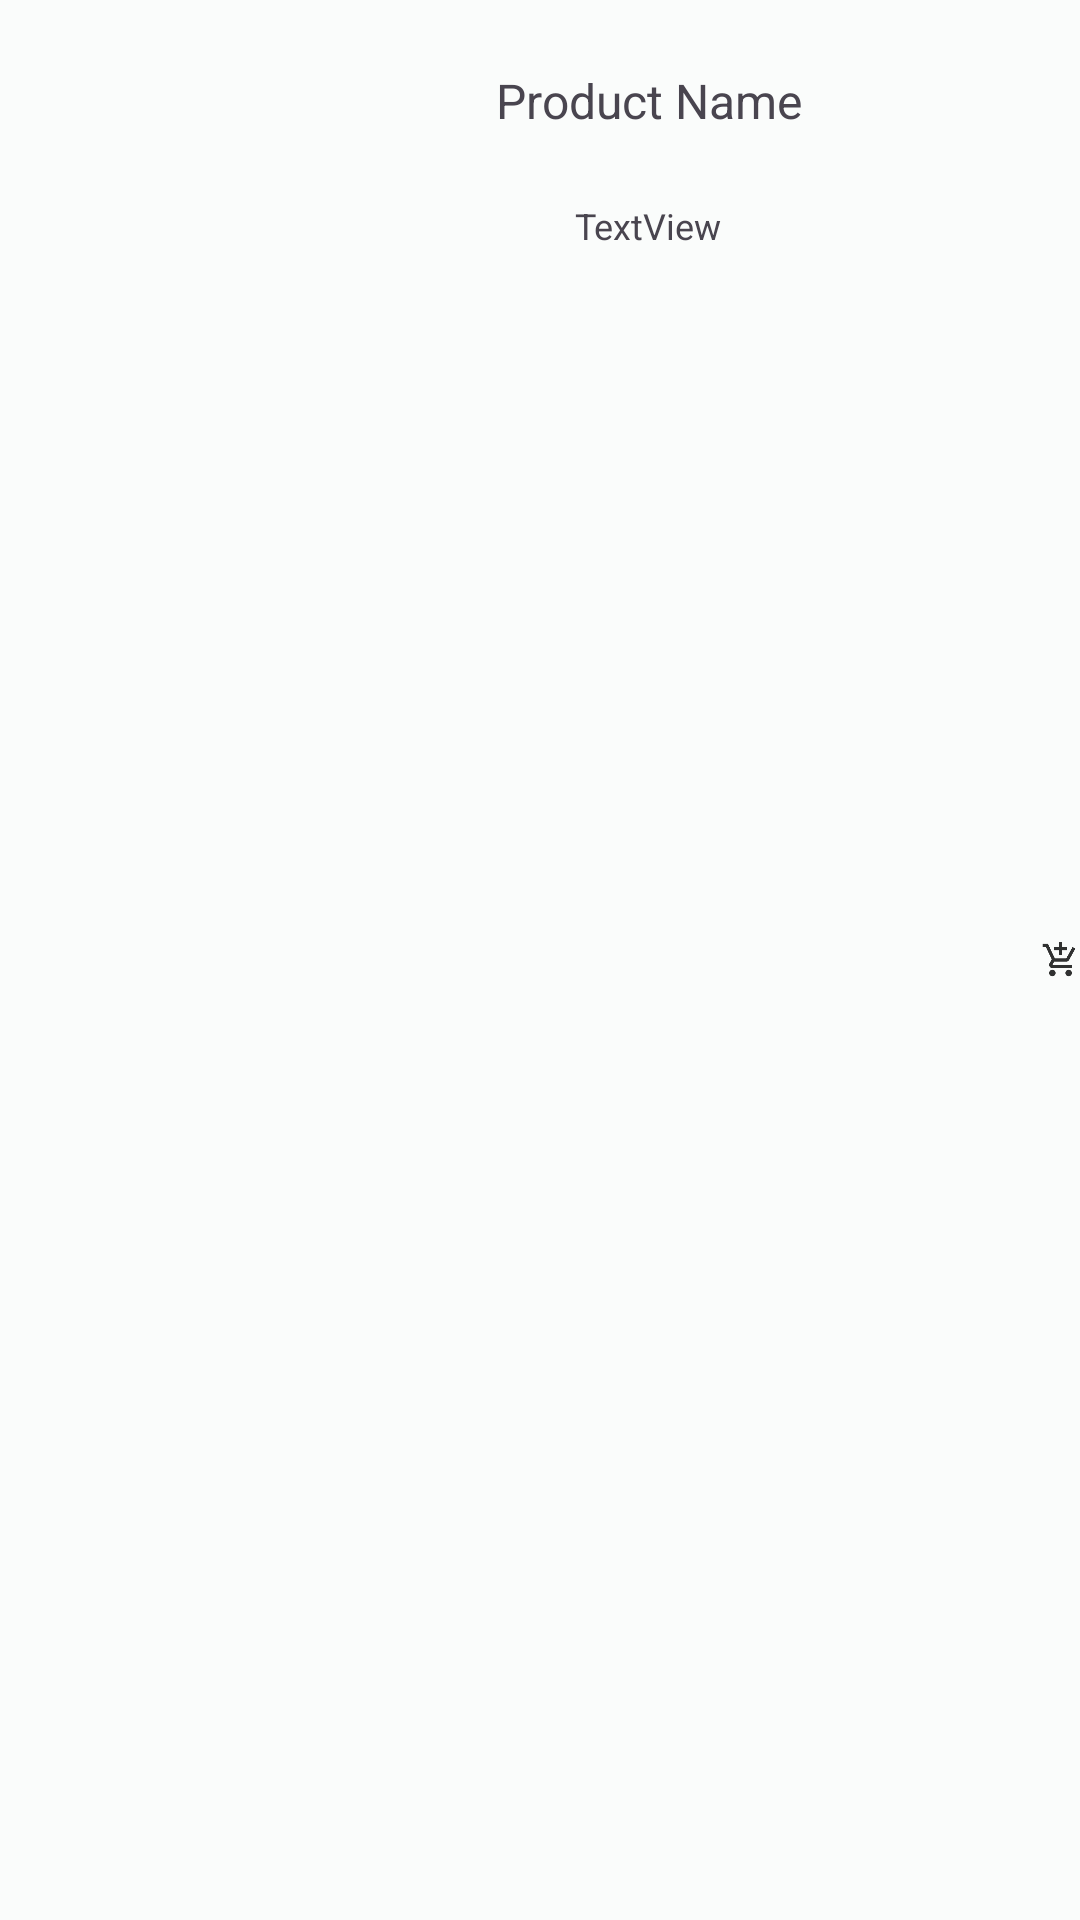

Icons on this 1080px x 1920px Android screen, each with the point to tap as [x,y]:
shopping cart: [1058,959]
